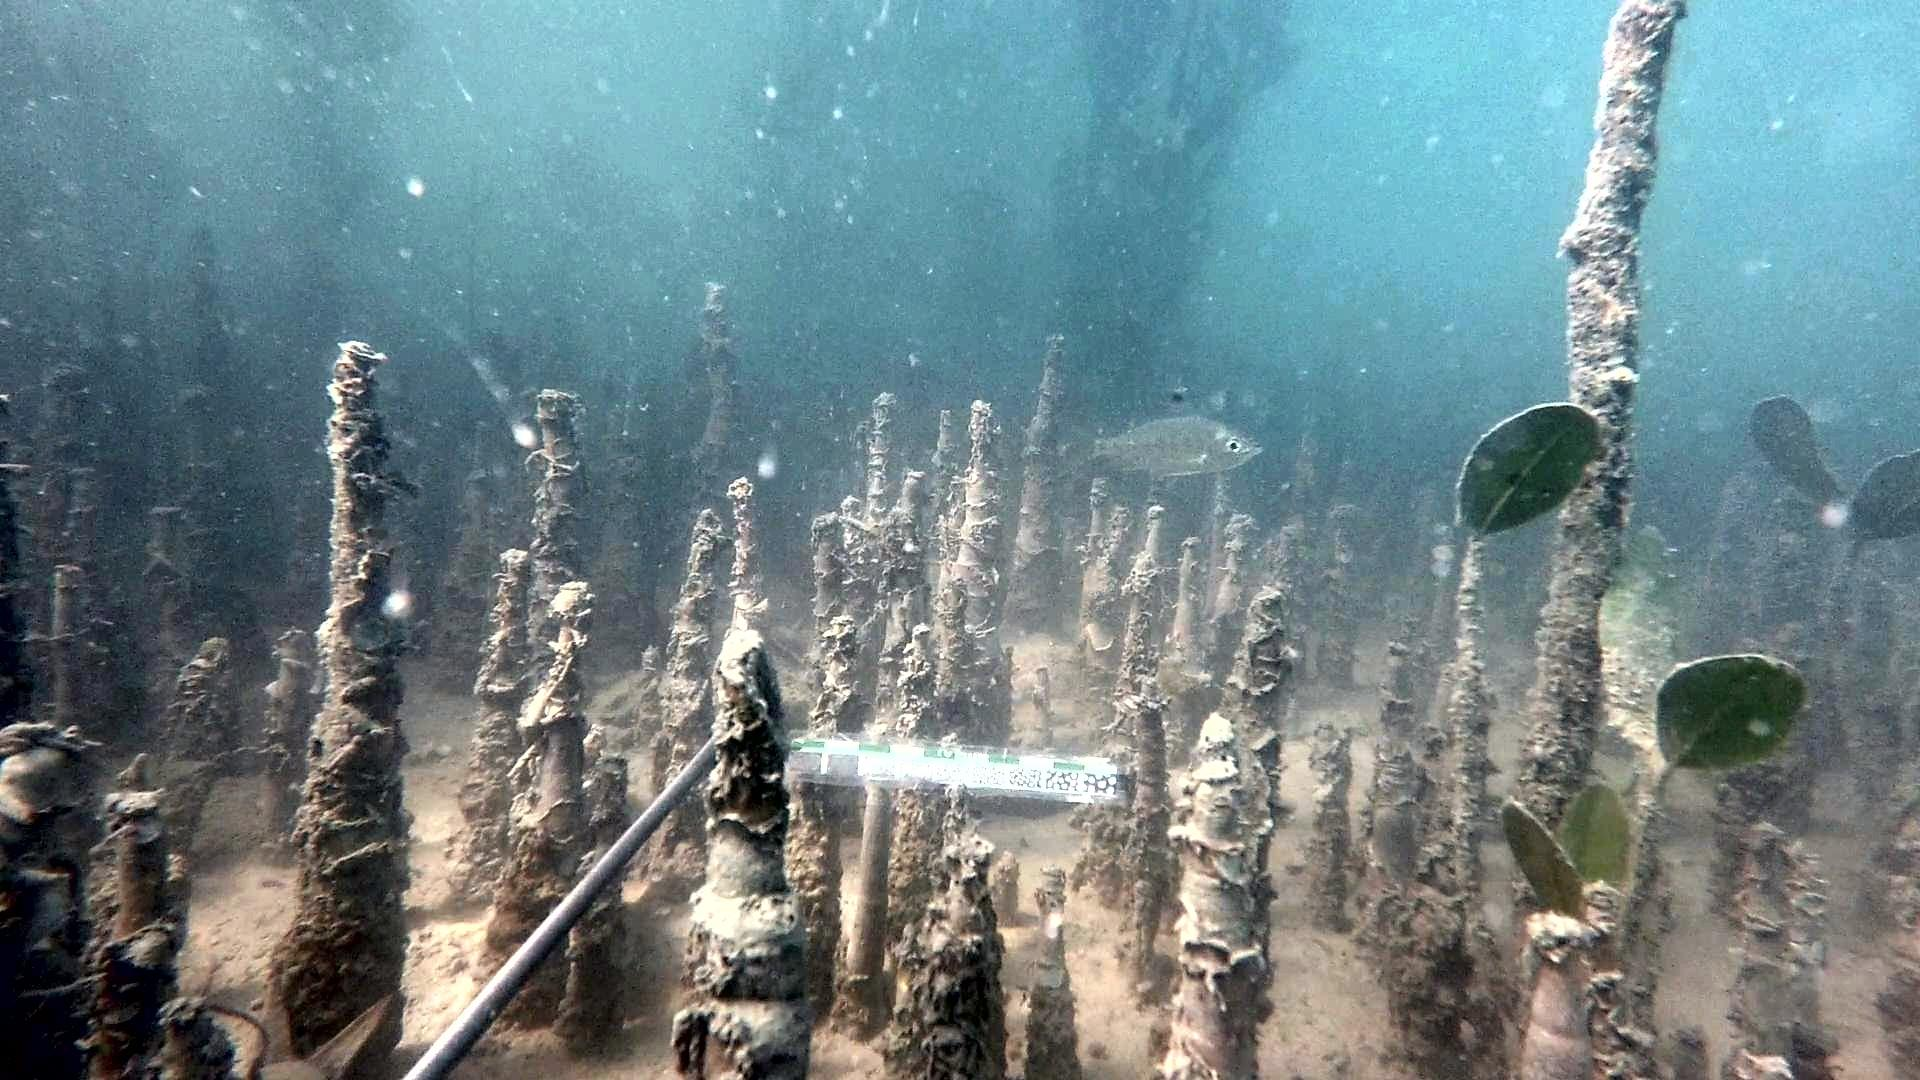gerres: (1060, 390, 1267, 481)
